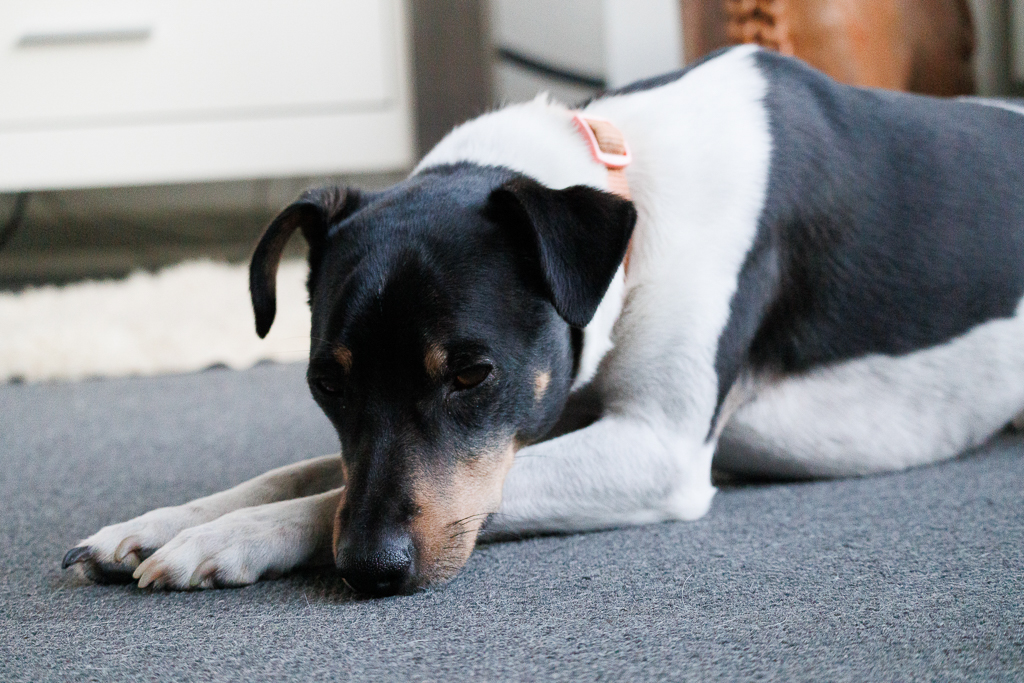Cattle: (670, 0, 992, 109)
Dog: (51, 33, 1023, 602)
